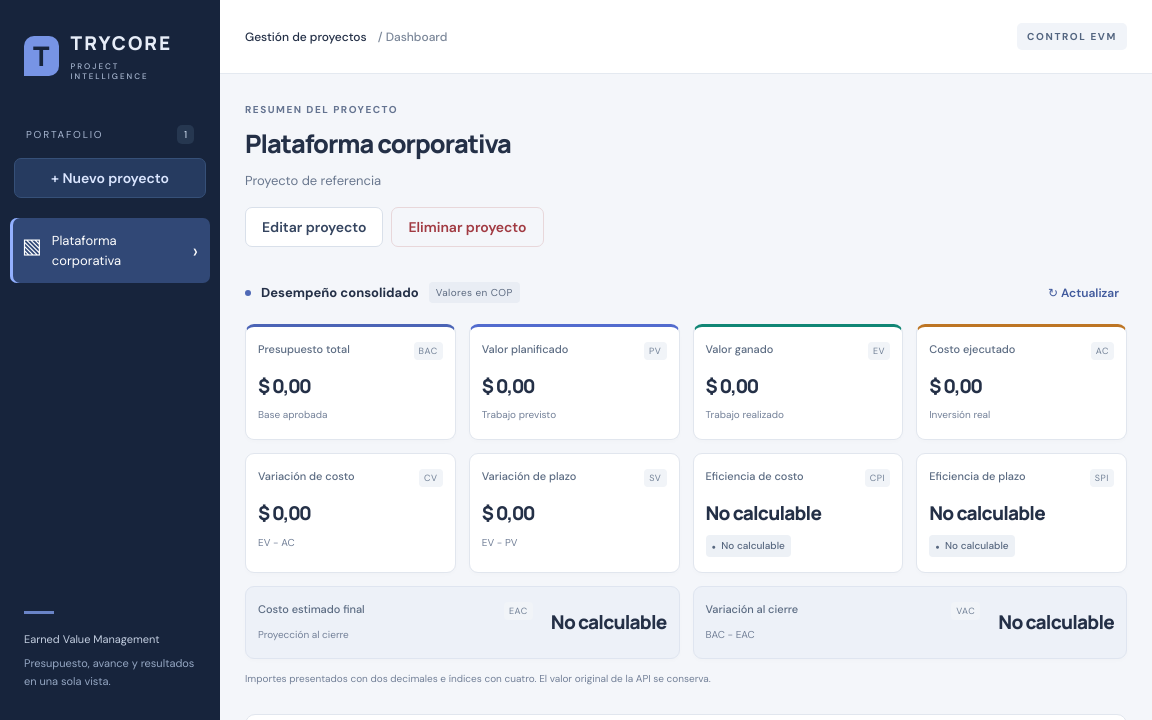
Test case: edits and deletes projects with explicit cascade confirmation
Click the button "Editar proyecto" at (314, 227), box 245,207 -> 383,247
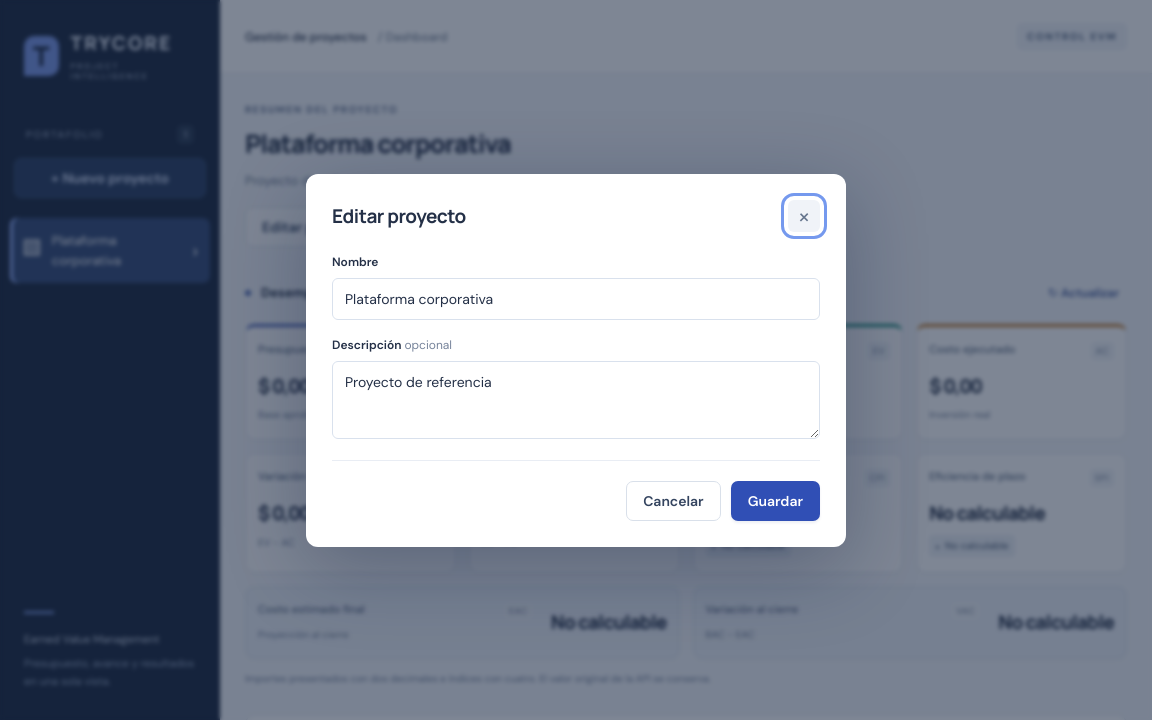
Replace the text in the field labelled "Nombre" with "Actualizado" at (576, 298), box 332,278 -> 820,320
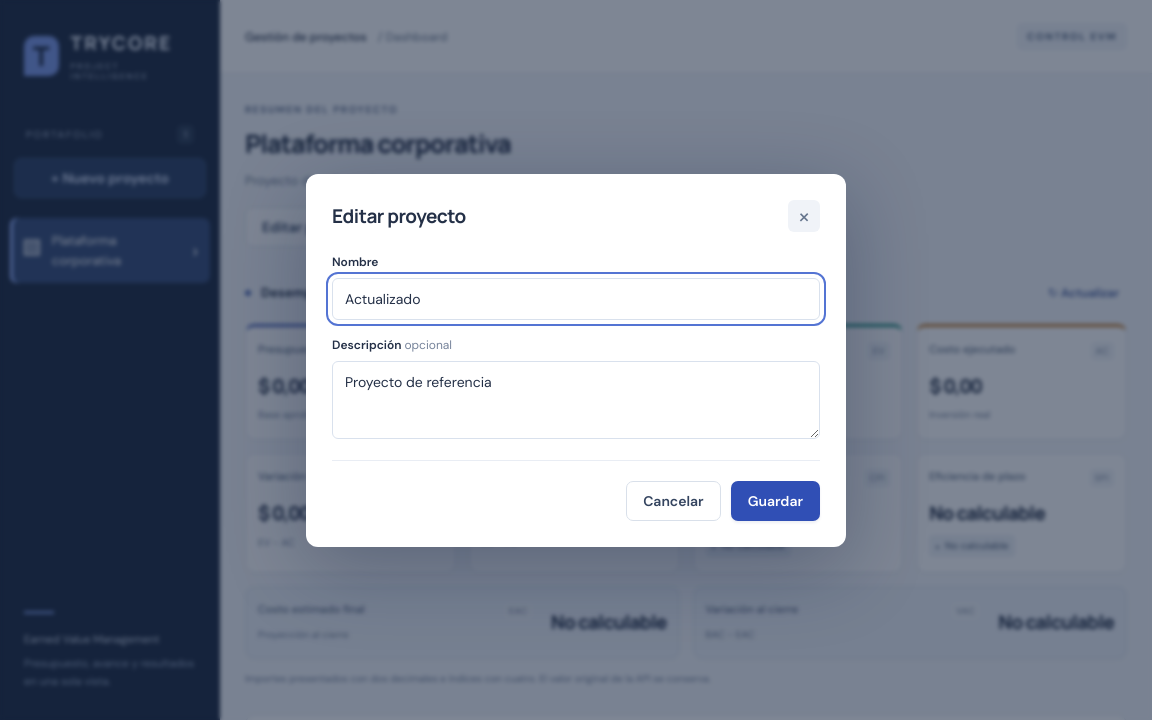
Click the button "Guardar" at (775, 500), box 731,480 -> 820,520
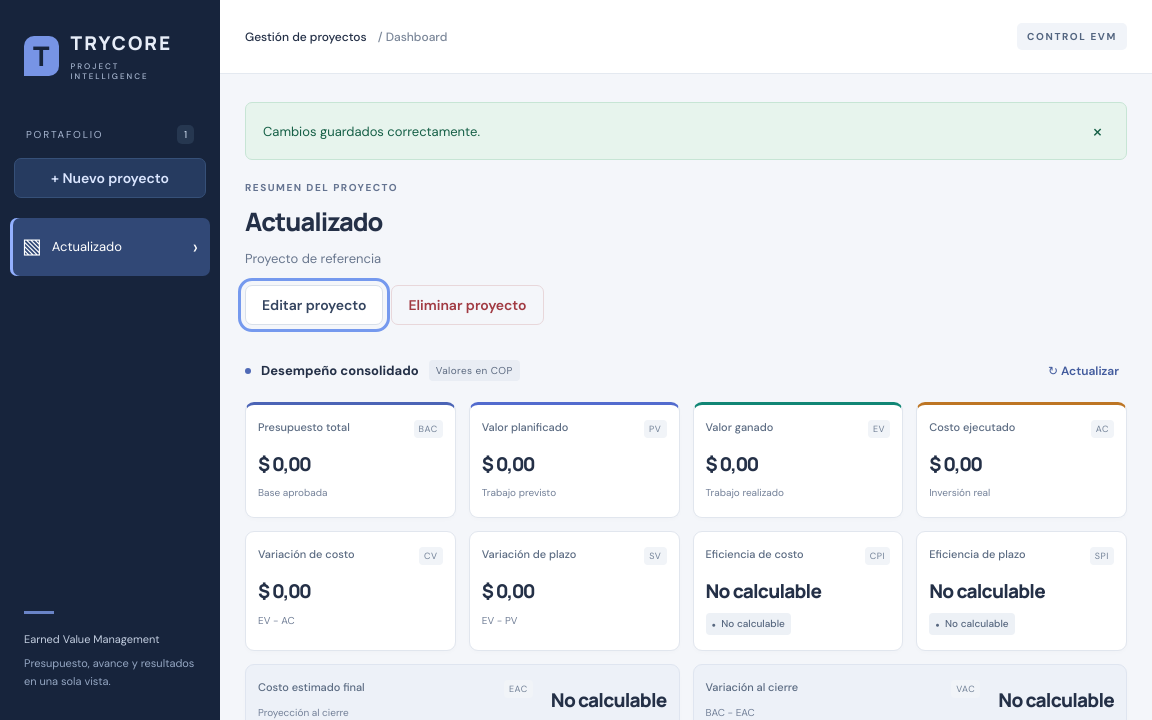
Now the heading "Actualizado" is shown, box 245,206 -> 398,238
Click the button "Eliminar proyecto" at (467, 305), box 391,285 -> 544,325
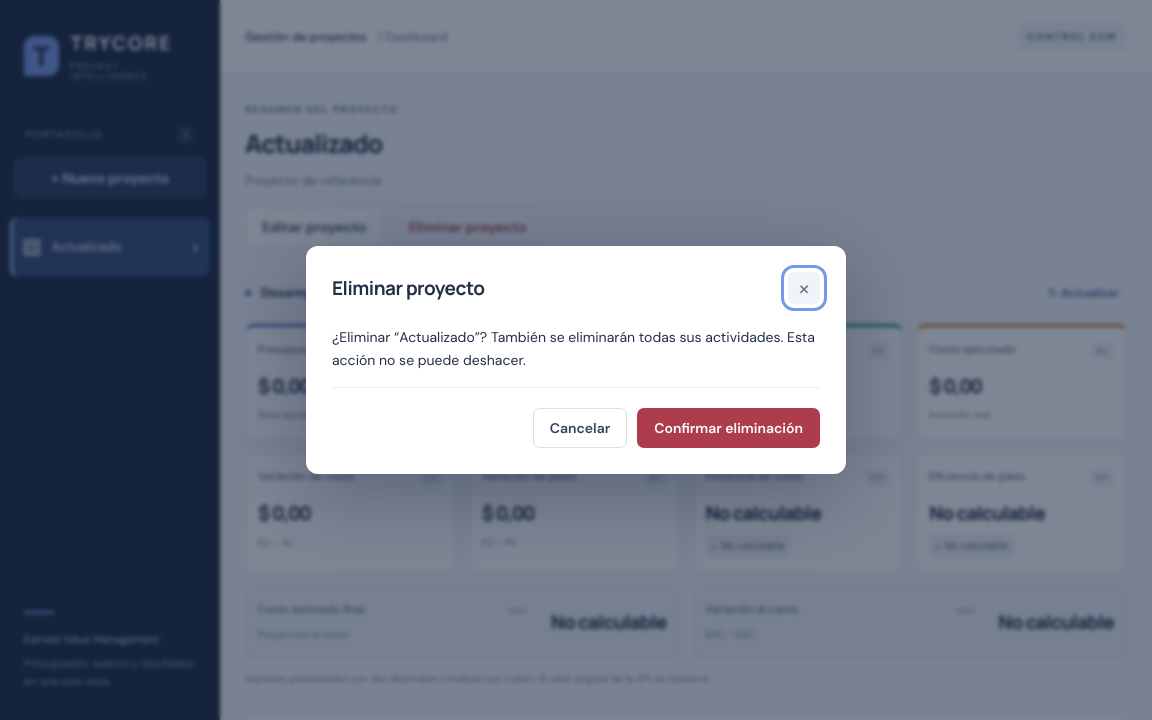
Now the dialog shows "También se eliminarán todas sus actividades", box 332,328 -> 815,369
Click the button "Confirmar eliminación" at (729, 428), box 637,408 -> 820,448
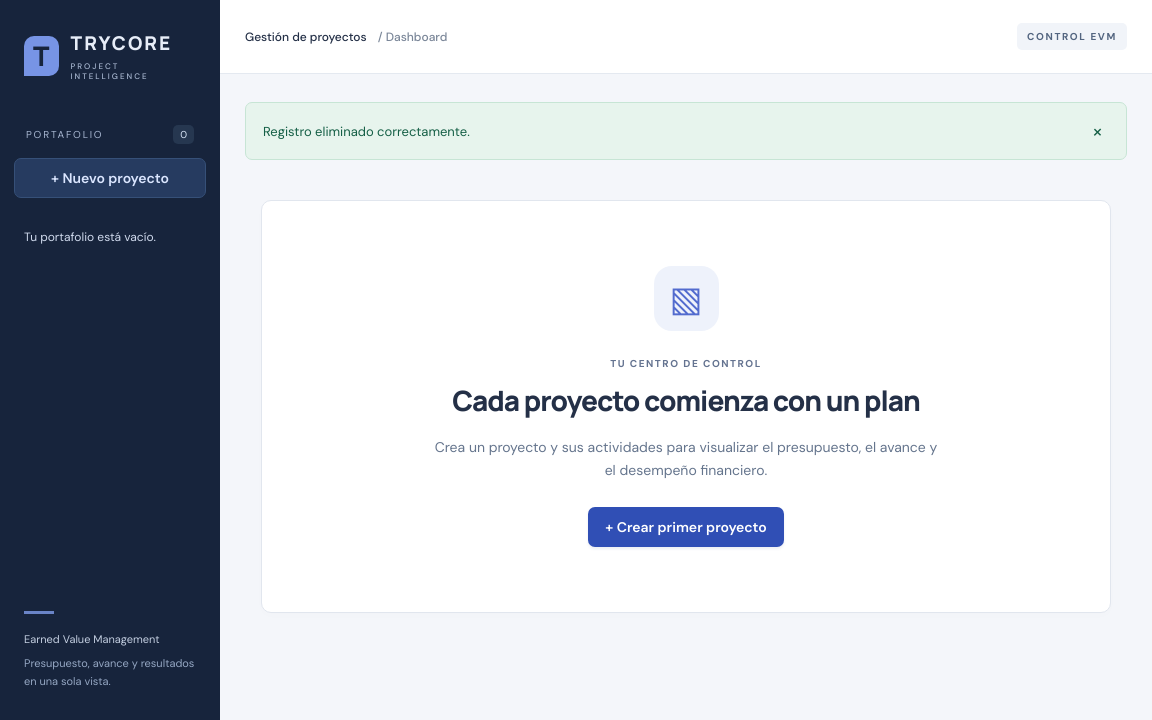
Now the heading "Cada proyecto comienza con un plan" is shown, box 452,380 -> 920,418
